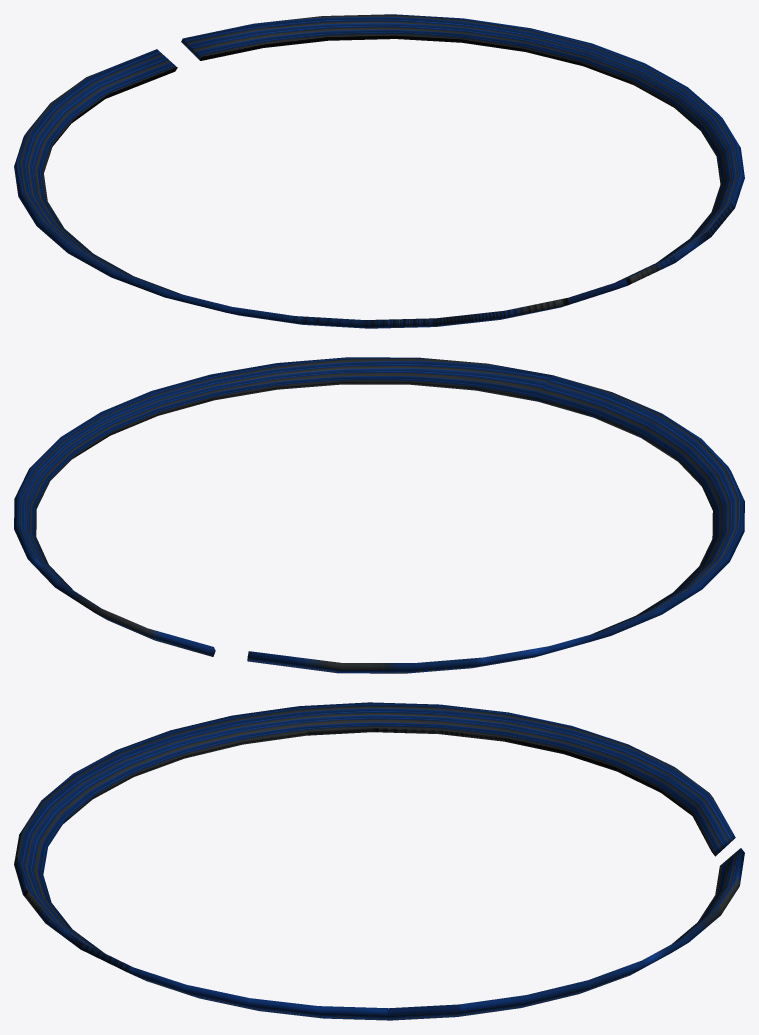
Rendered from Stairs-2.fbx.
3 renders of one model, top to bottom at view 1: azimuth 30°, elevation 25°; view 2: azimuth 150°, elevation 25°; view 3: azimuth 270°, elevation 25°, orthographic.
Parts seen in each view (by area): view 1: 2nd Stairs; view 2: 2nd Stairs; view 3: 2nd Stairs.
Part boxes in pixels (<box>): 2nd Stairs: <box>14,14,744,328</box>; 2nd Stairs: <box>14,357,744,673</box>; 2nd Stairs: <box>14,702,744,1020</box>.
Bounding box in the file's own units: 20201 × 584 × 20200.
1 material, 1 textured.
